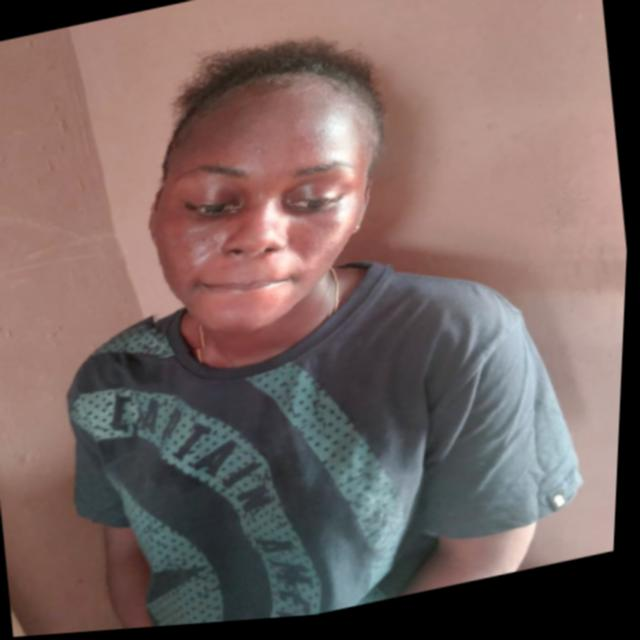sad: (117, 51, 408, 362)
